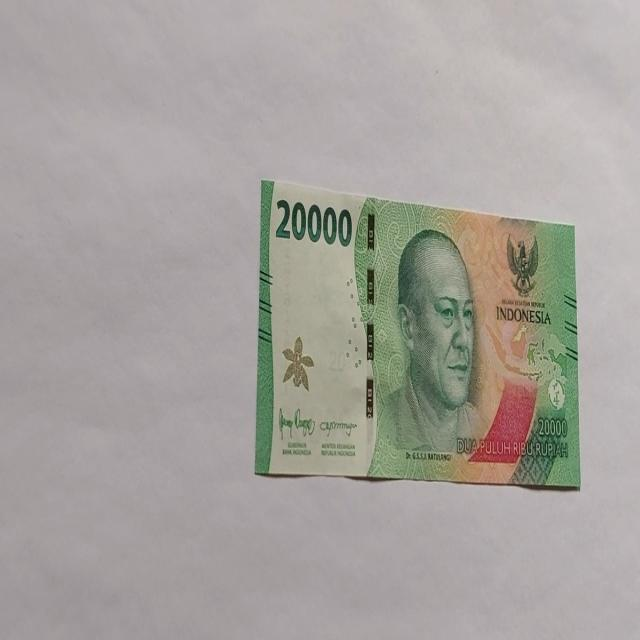dua puluh ribu rupiah: (255, 177, 580, 488), (369, 226, 490, 477)
